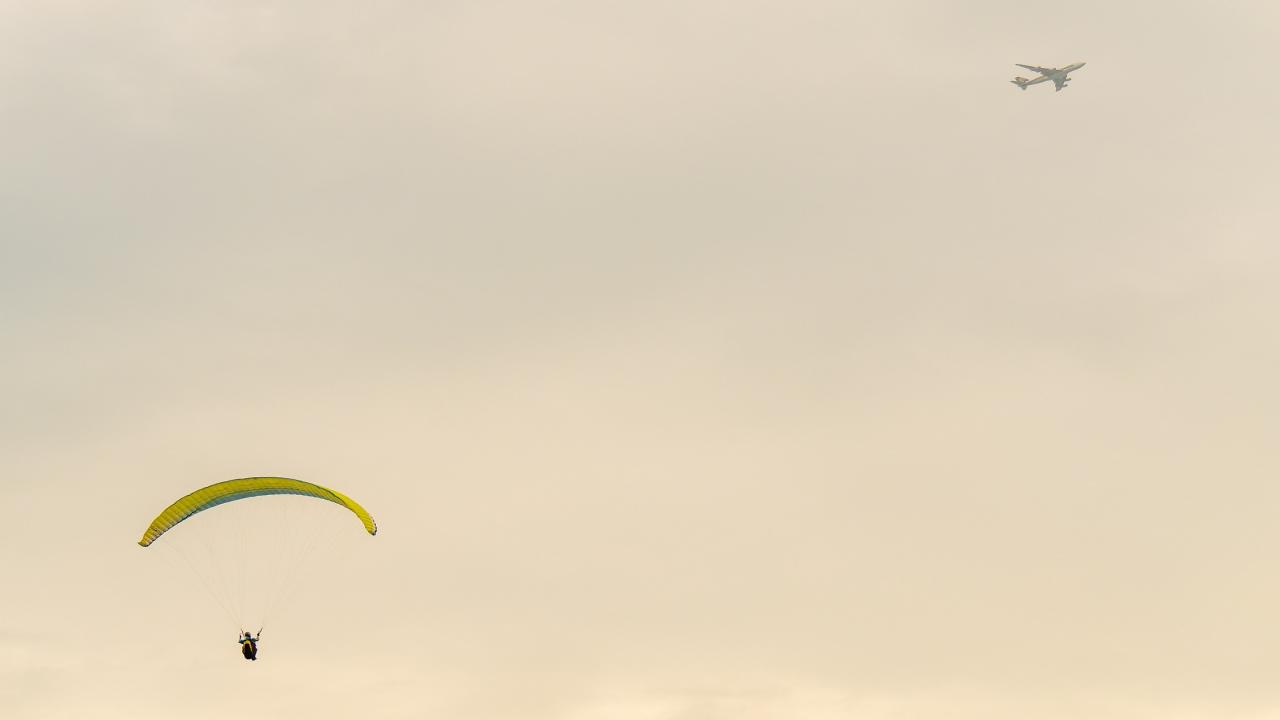Airplane: (1000, 51, 1094, 99)
